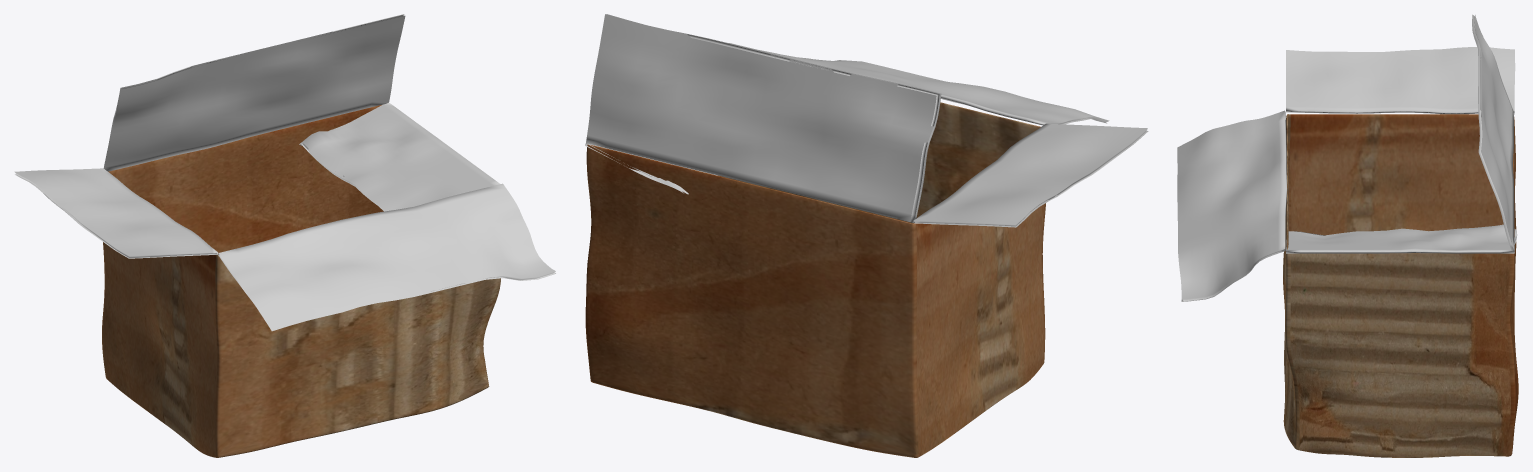
File: cardboard_03.fbx
3 renders of one model, left to right at view 1: azimuth 30°, elevation 25°; view 2: azimuth 150°, elevation 25°; view 3: azimuth 270°, elevation 25°, orthographic. The views are drawn at different scales.
Parts seen in each view (by area): view 1: Cube; view 2: Cube; view 3: Cube.
Part boxes in pixels (x1,y1,x2,y2): Cube: (14,14,555,457); Cube: (585,14,1148,457); Cube: (1177,14,1518,457).
Size of the model in its own units: 3.78 by 2.97 by 2.99.
